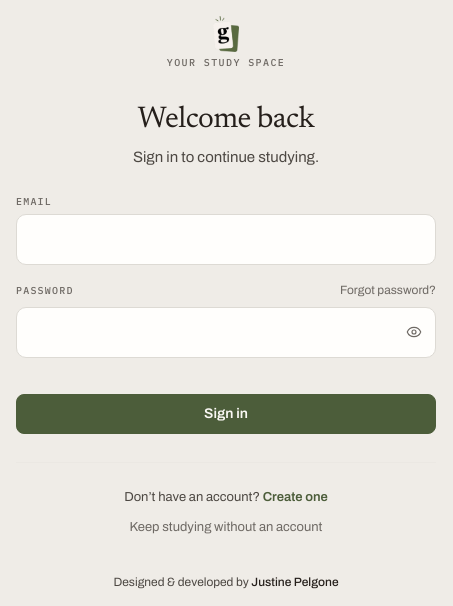
Test: the other two ways in › confirms the link was sent rather than leaving the page
Click the button "Forgot password?".
click(388, 290)  # box left=340, top=281, right=436, bottom=300
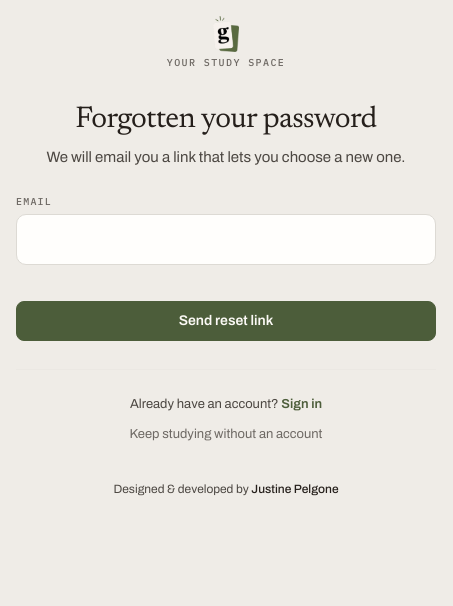
Type "reader@example.com" into the field labelled "Email".
click(226, 239); type("reader@example.com")  # box left=16, top=214, right=436, bottom=265
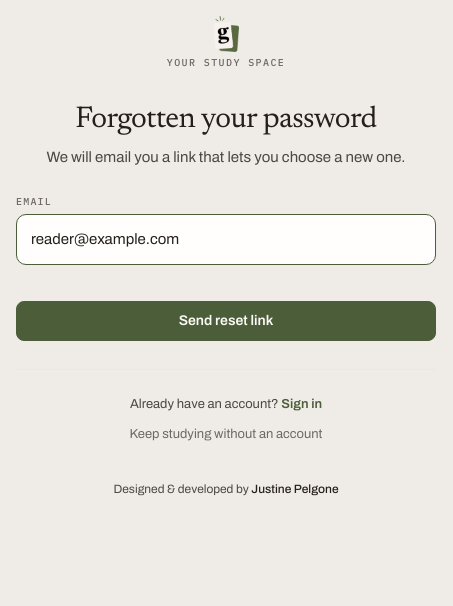
Click the button "Send reset link".
click(226, 321)  # box left=16, top=301, right=436, bottom=341
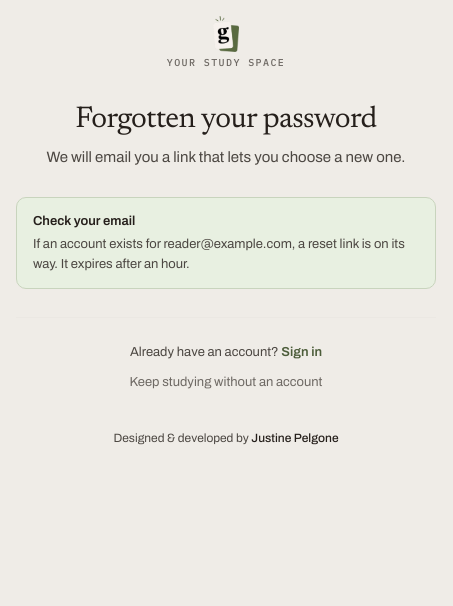
Result: the text "Check your email" is shown at left=33, top=214, right=135, bottom=228
